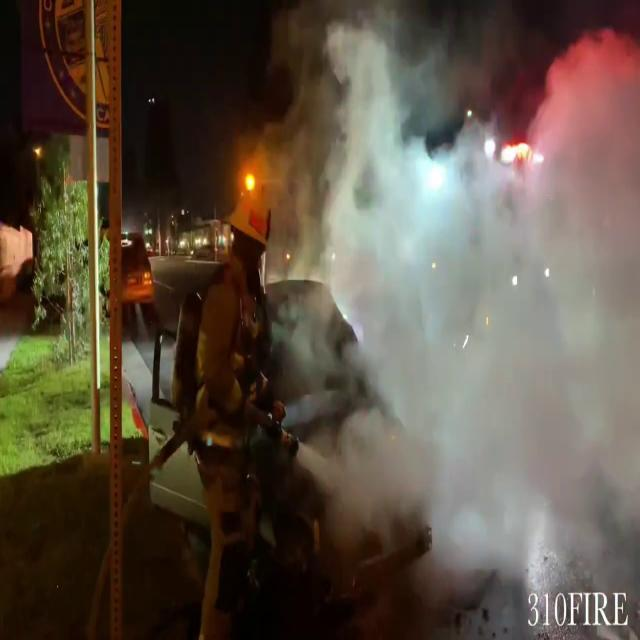Smoke: (296, 8, 640, 578)
